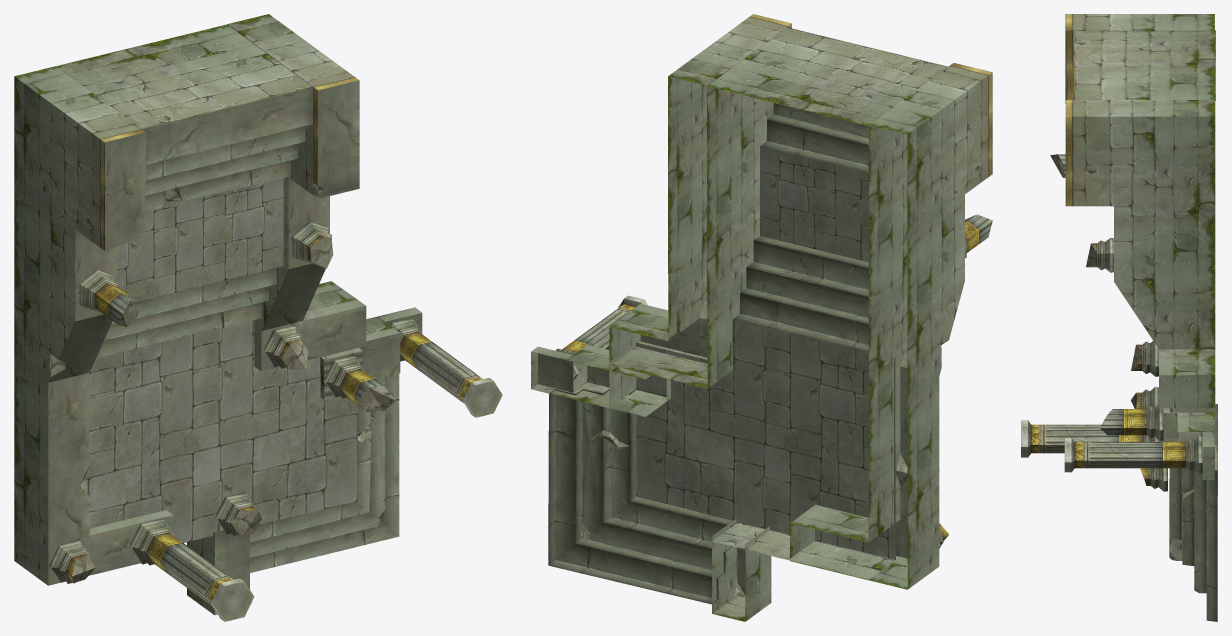
Rendered from xila_yewai_45_taijie_06.obj.
The picture shows the model from 3 angles, left to right: view 1: azimuth 30°, elevation 25°; view 2: azimuth 150°, elevation 25°; view 3: azimuth 270°, elevation 25°; orthographic projection. The views are drawn at different scales.
Visible parts, largest first — view 1: xila_yewai_45_taijie_06; view 2: xila_yewai_45_taijie_06; view 3: xila_yewai_45_taijie_06.
Boxes of the visible parts, x1,y1,x2,y2 form: xila_yewai_45_taijie_06: (14,14,502,621); xila_yewai_45_taijie_06: (531,14,992,621); xila_yewai_45_taijie_06: (1021,14,1217,621).
Bounding box in the file's own units: 338 × 452 × 174.
Materials: 4 (4 with a texture image).
